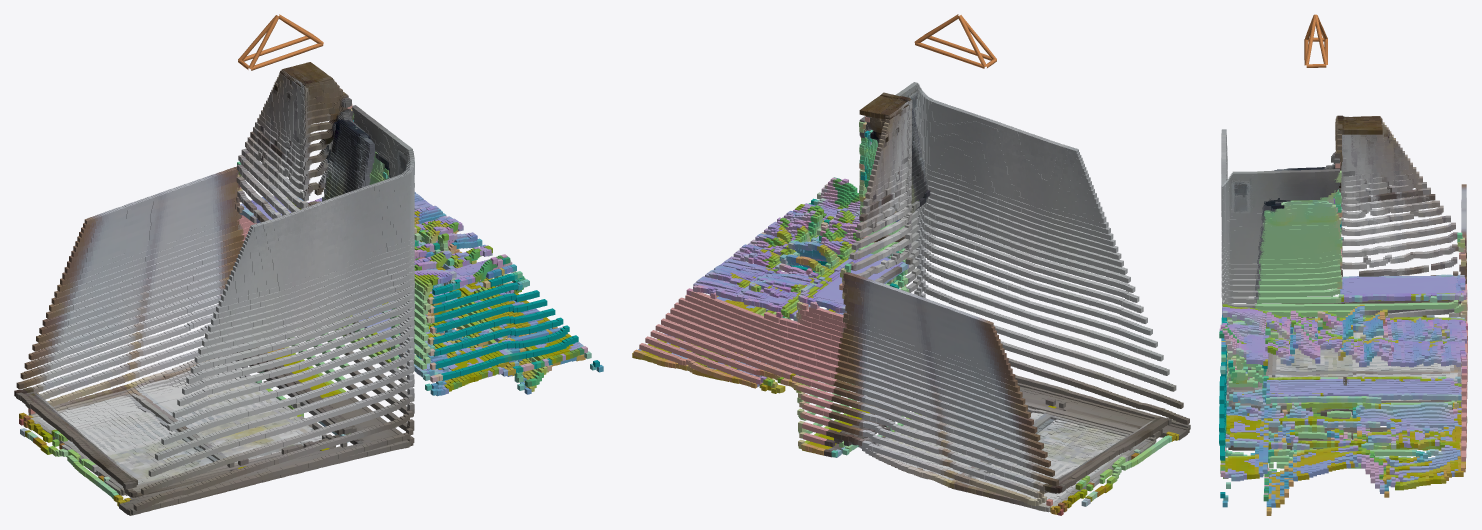
3 views of the same model, side by side, from view 1: azimuth 30°, elevation 25°; view 2: azimuth 150°, elevation 25°; view 3: azimuth 270°, elevation 25° (orthographic). The views are drawn at different scales.
Bounding box in the file's own units: 5.25 × 4.54 × 2.52.
